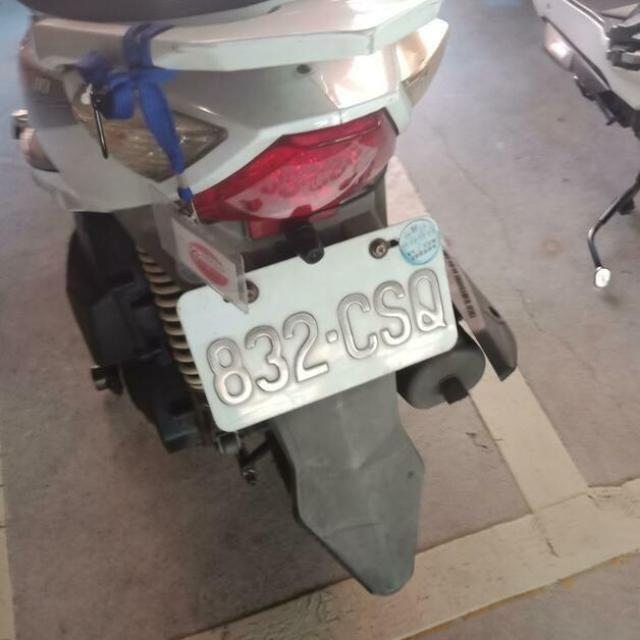W: (158, 200, 473, 436)
